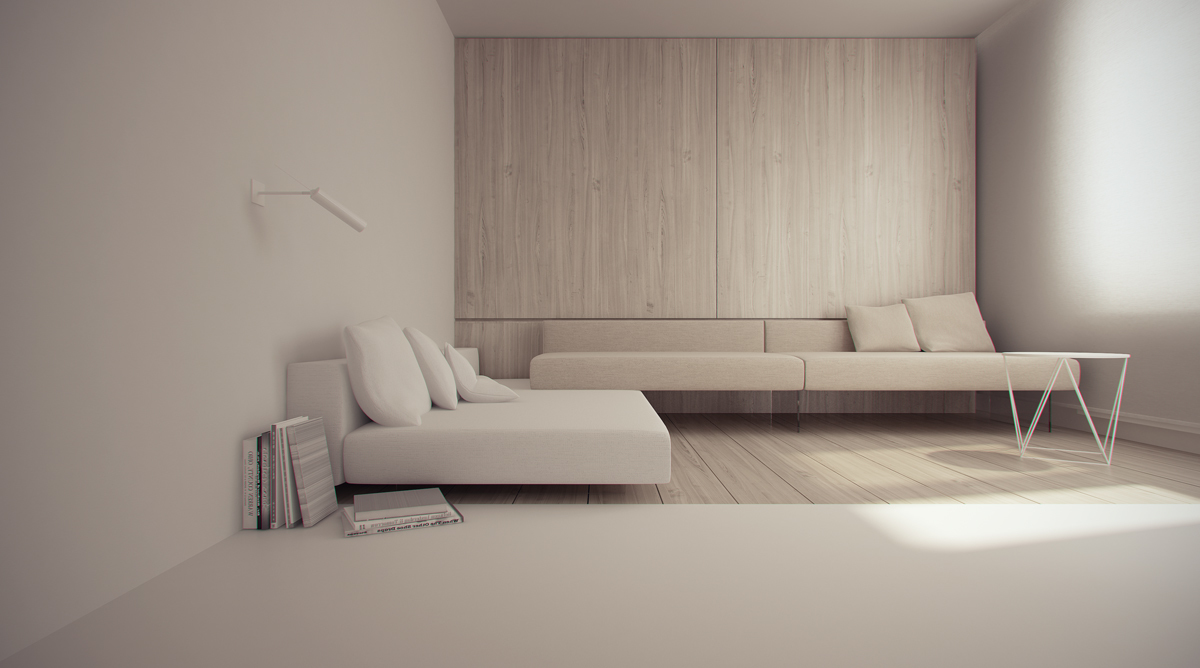sofa: (279, 312, 677, 493), (529, 288, 1086, 411)
table: (995, 342, 1133, 470)
